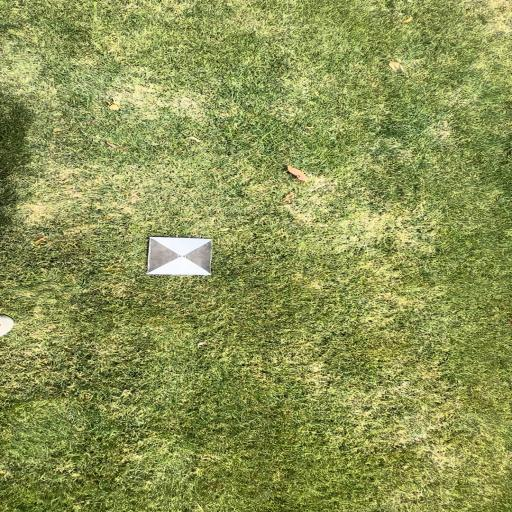target: (150, 237, 212, 274)
